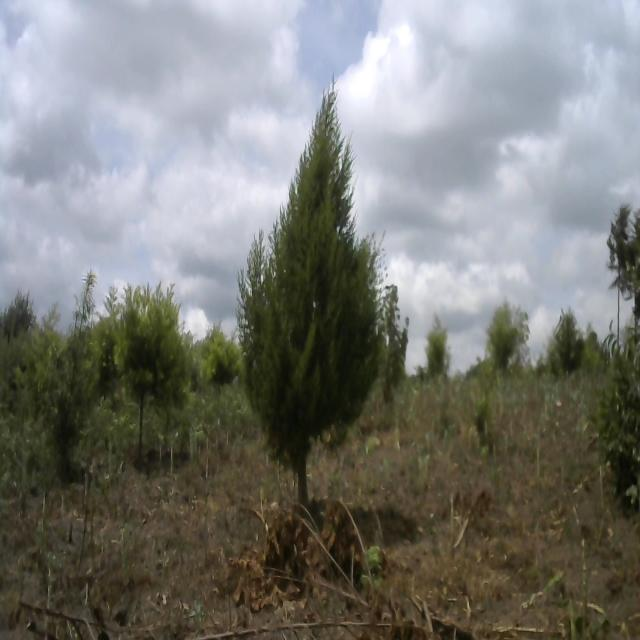Juniperus procesera: (240, 55, 403, 526)
Podocarpus falcatus: (96, 252, 192, 473), (42, 278, 94, 476)
